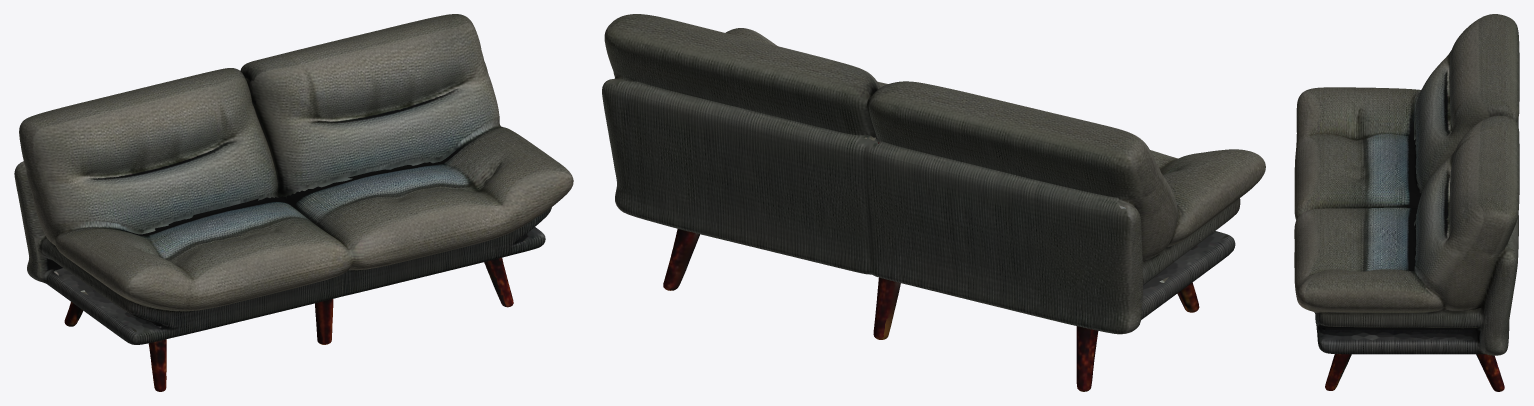
The model's file is couch__couch#3.glb.
3 views of the same model, side by side, from view 1: azimuth 30°, elevation 25°; view 2: azimuth 150°, elevation 25°; view 3: azimuth 270°, elevation 25° (orthographic). The views are drawn at different scales.
Visible parts, largest first — view 1: tmph761jfi_.ply; view 2: tmph761jfi_.ply; view 3: tmph761jfi_.ply.
Boxes of the visible parts, x1,y1,x2,y2 form: tmph761jfi_.ply: (14, 14, 573, 391); tmph761jfi_.ply: (602, 14, 1265, 391); tmph761jfi_.ply: (1294, 14, 1519, 391).
Bounding box in the file's own units: 1.99 × 0.9159 × 0.9187.
1 material, 1 textured.
